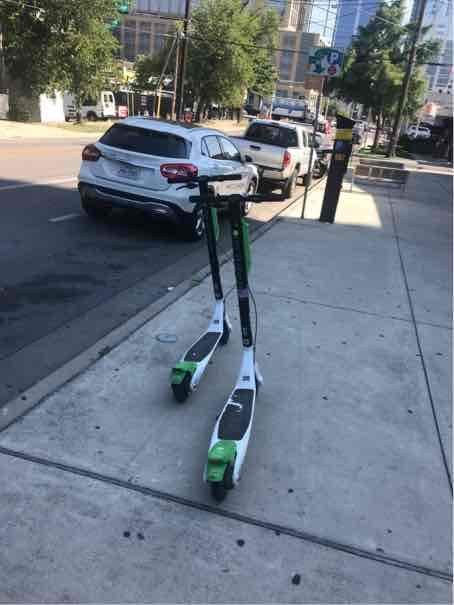scooter: (184, 176, 291, 500), (167, 166, 260, 447)
